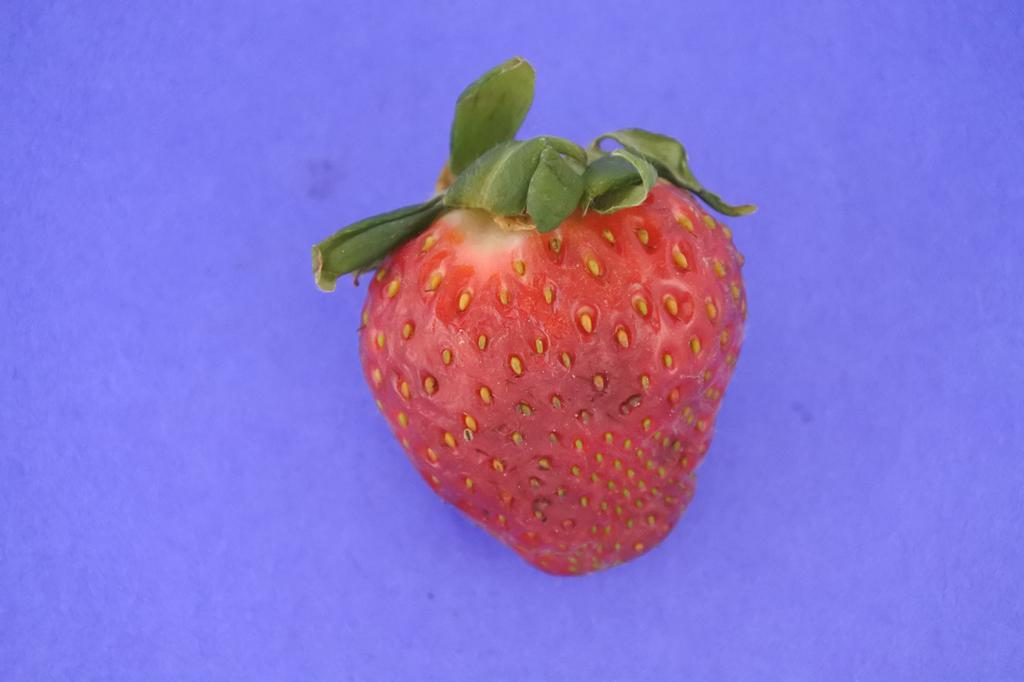red strawberry: (310, 56, 750, 578)
